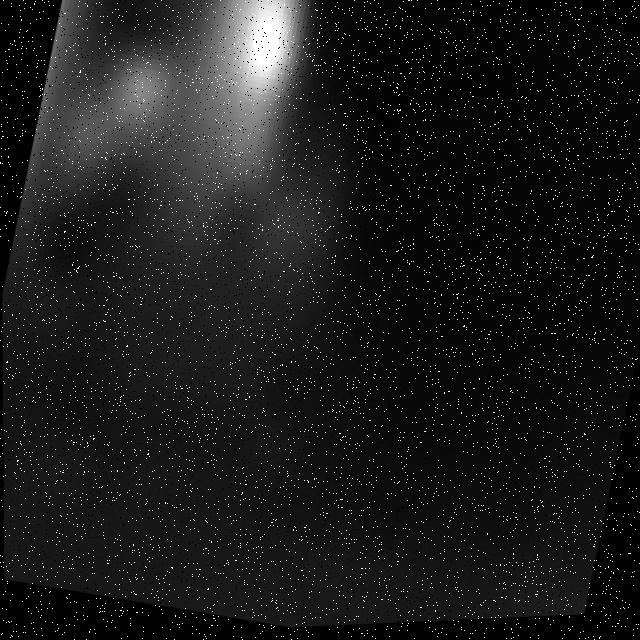person: (114, 1, 422, 334), (4, 1, 124, 281)
